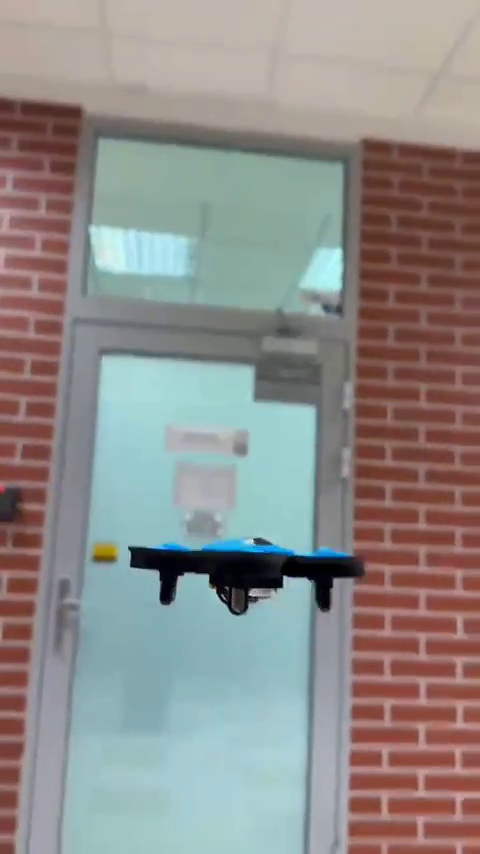drone: (128, 536, 367, 617)
